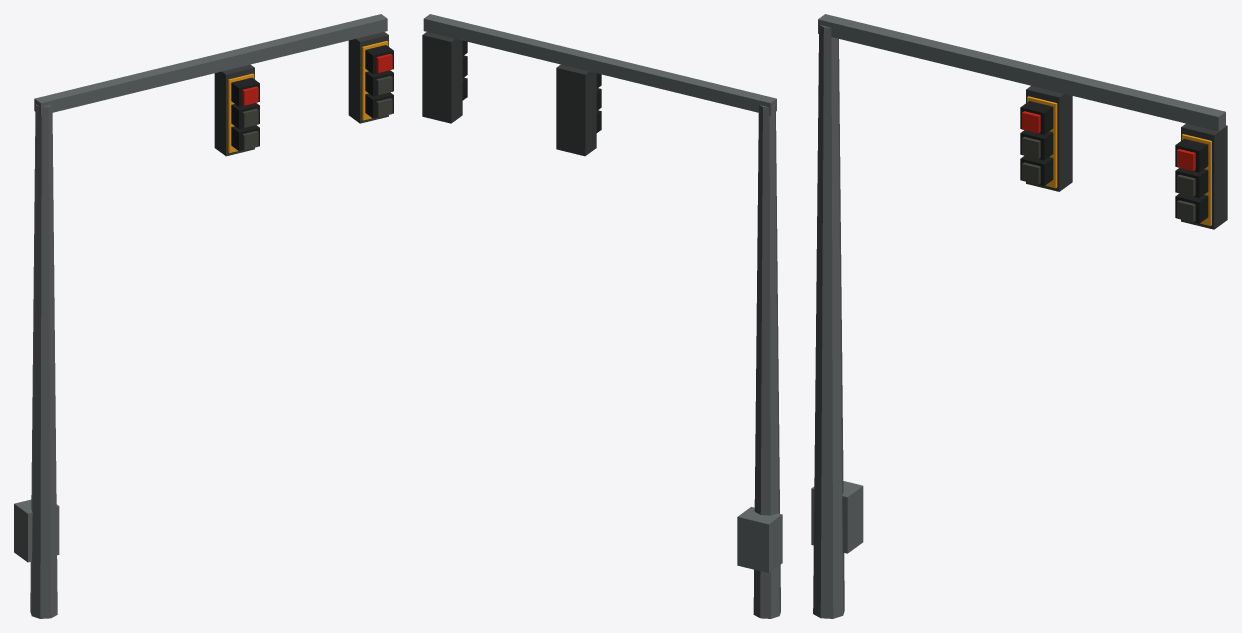
File: signal0.glb
3 renders of one model, left to right at view 1: azimuth 30°, elevation 25°; view 2: azimuth 150°, elevation 25°; view 3: azimuth 330°, elevation 25°, orthographic. The views are drawn at different scales.
Parts seen in each view (by area): view 1: signal0; view 2: signal0; view 3: signal0.
Boxes of the visible parts, x1=… form: signal0: x1=14, y1=14, x2=393, y2=618; signal0: x1=422, y1=14, x2=782, y2=618; signal0: x1=811, y1=14, x2=1227, y2=618.
Size of the model in its own units: 4.2 by 5.79 by 0.628.
